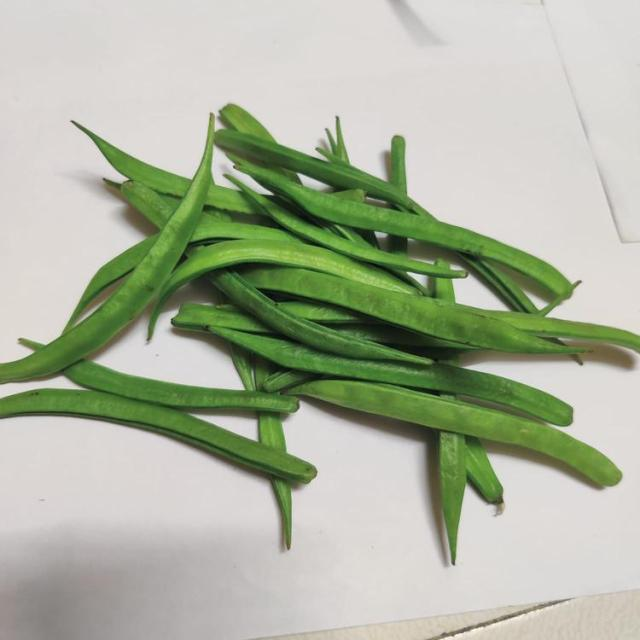Organik: (89, 340, 575, 493), (145, 250, 580, 362), (168, 169, 562, 272)
